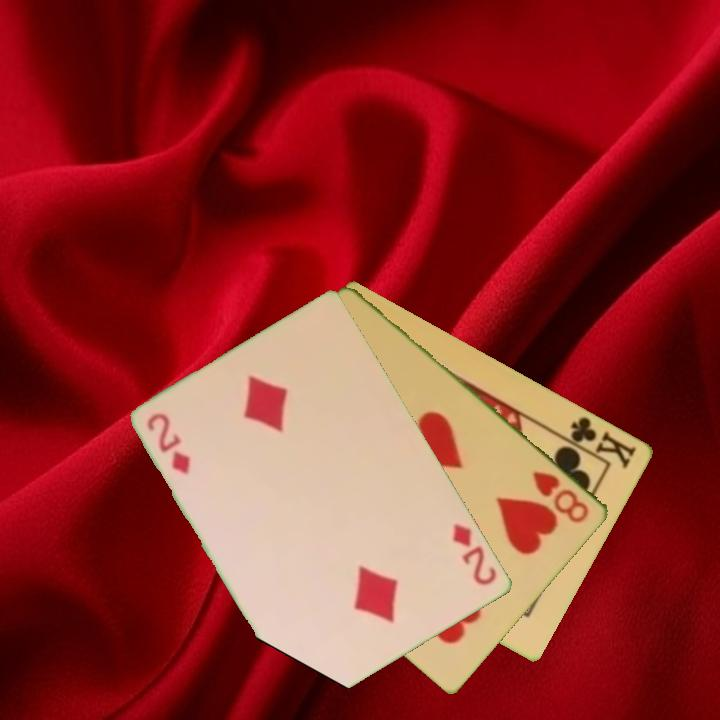2d: (449, 520, 501, 589), (143, 409, 194, 478)
8h: (529, 467, 593, 526)
Kc: (558, 413, 640, 471)
